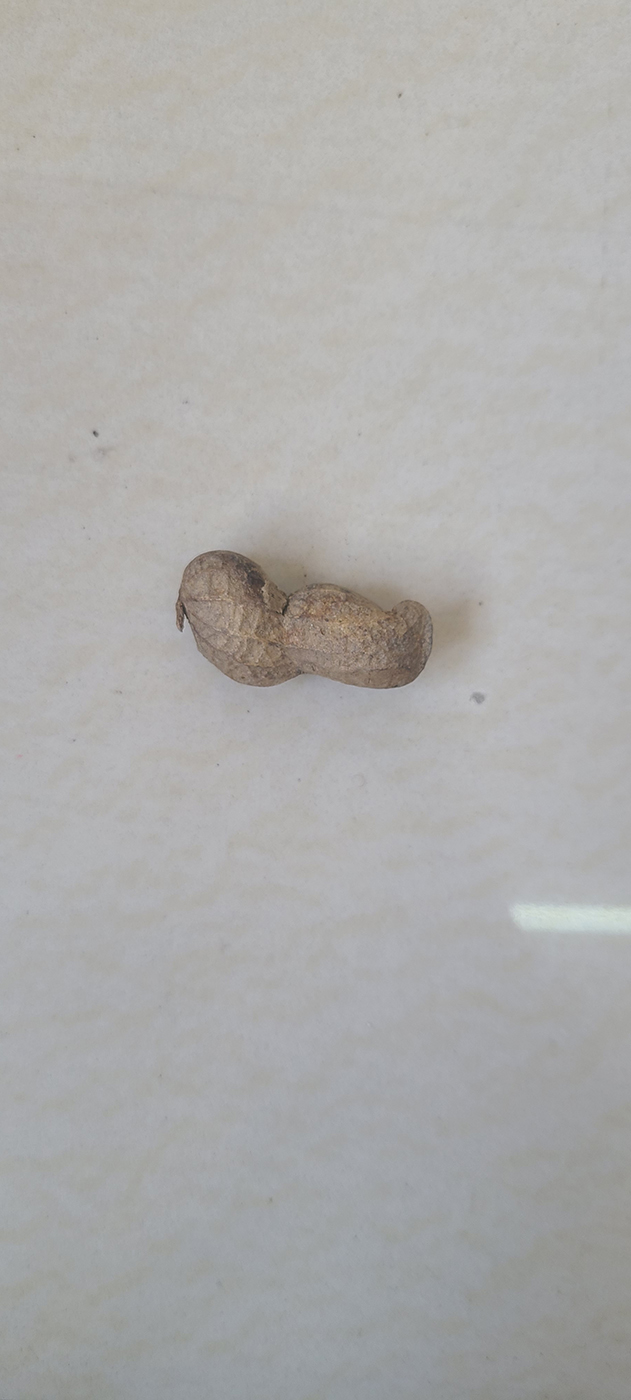l: (176, 549, 433, 690)
